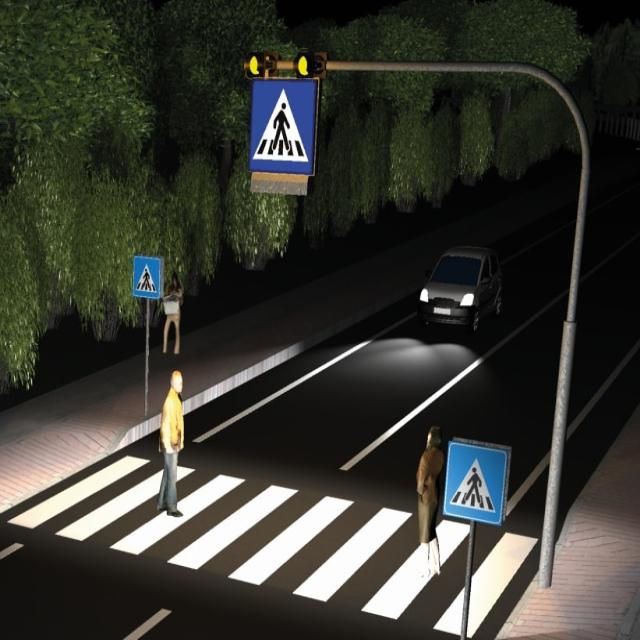Pedestrian crosswalk: (5, 452, 540, 640), (252, 82, 312, 170), (450, 447, 501, 520), (132, 256, 160, 296)
Person: (159, 365, 188, 522), (418, 418, 442, 587), (162, 267, 187, 352)
